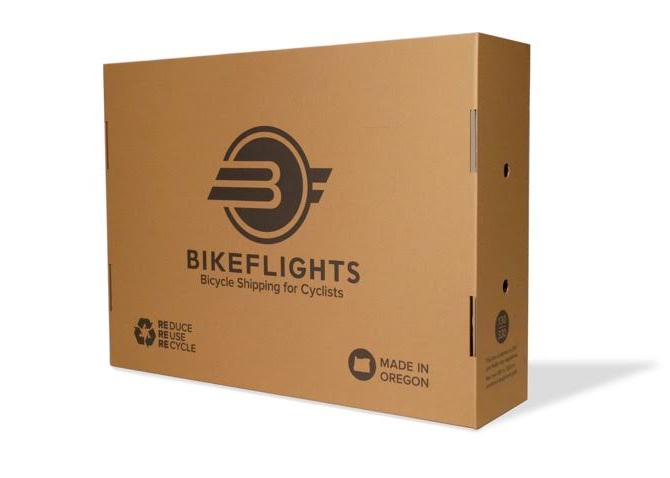Rec_Paper: (88, 44, 551, 435)
